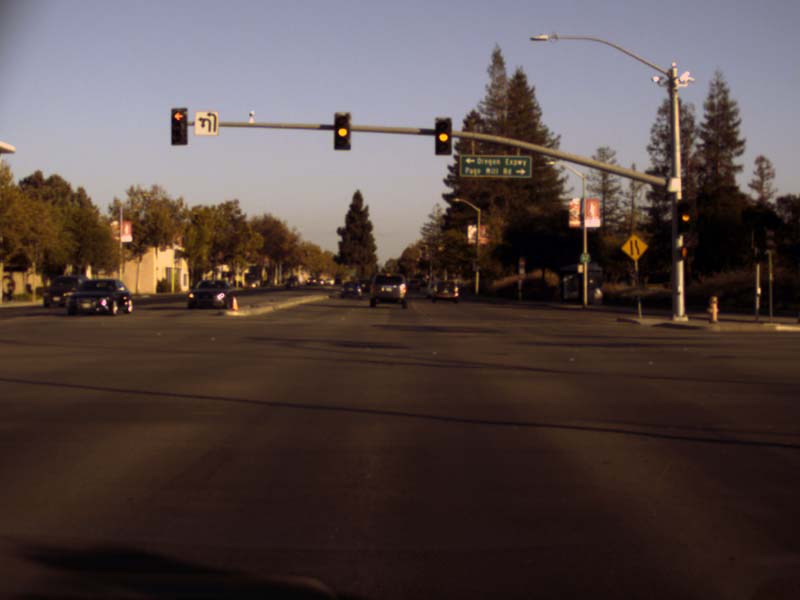Red: (170, 110, 186, 143)
Yellow: (435, 117, 451, 155), (334, 113, 350, 149), (680, 202, 689, 229)
